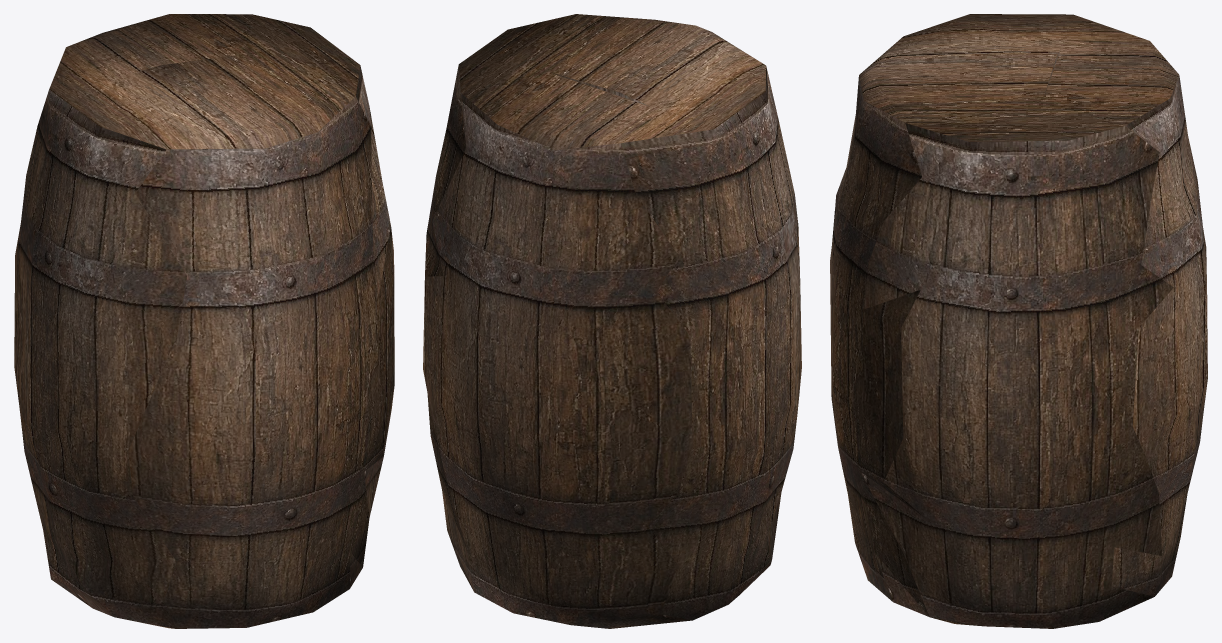
Rendered from barrel_med.glb.
The picture shows the model from 3 angles, left to right: view 1: azimuth 30°, elevation 25°; view 2: azimuth 150°, elevation 25°; view 3: azimuth 270°, elevation 25°; orthographic projection.
Visible parts, largest first — view 1: barrel_med; view 2: barrel_med; view 3: barrel_med.
Boxes of the visible parts, x1=… form: barrel_med: x1=14, y1=14, x2=394, y2=628; barrel_med: x1=423, y1=14, x2=801, y2=628; barrel_med: x1=830, y1=14, x2=1207, y2=628.
Bounding box in the file's own units: 0.6381 × 0.9539 × 0.6372.
Materials: 1 (1 with a texture image).
